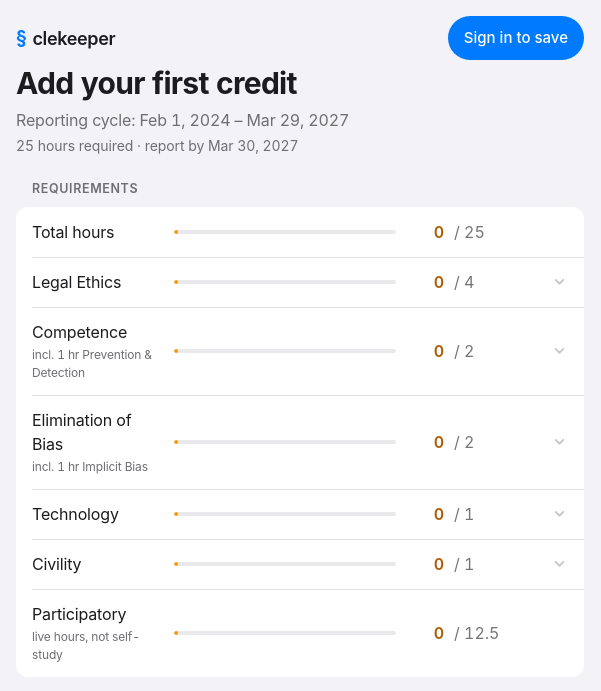
Test: on use-existing-account: flips to linked, shows the merged-credits message, and reloads
Step 1. Click the button "Sign in to save" → (516, 38), box [448,16,584,60]
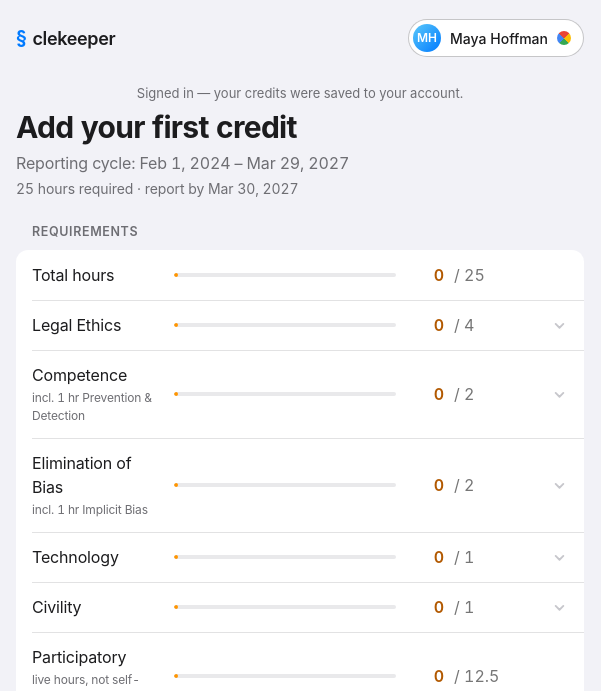
Check: the button "Sign in to save" is gone
Check: the text "Signed in — your credits were saved to your account." is shown, box [137,85,463,101]
